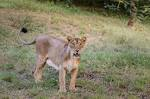lion: (29, 33, 90, 93)
